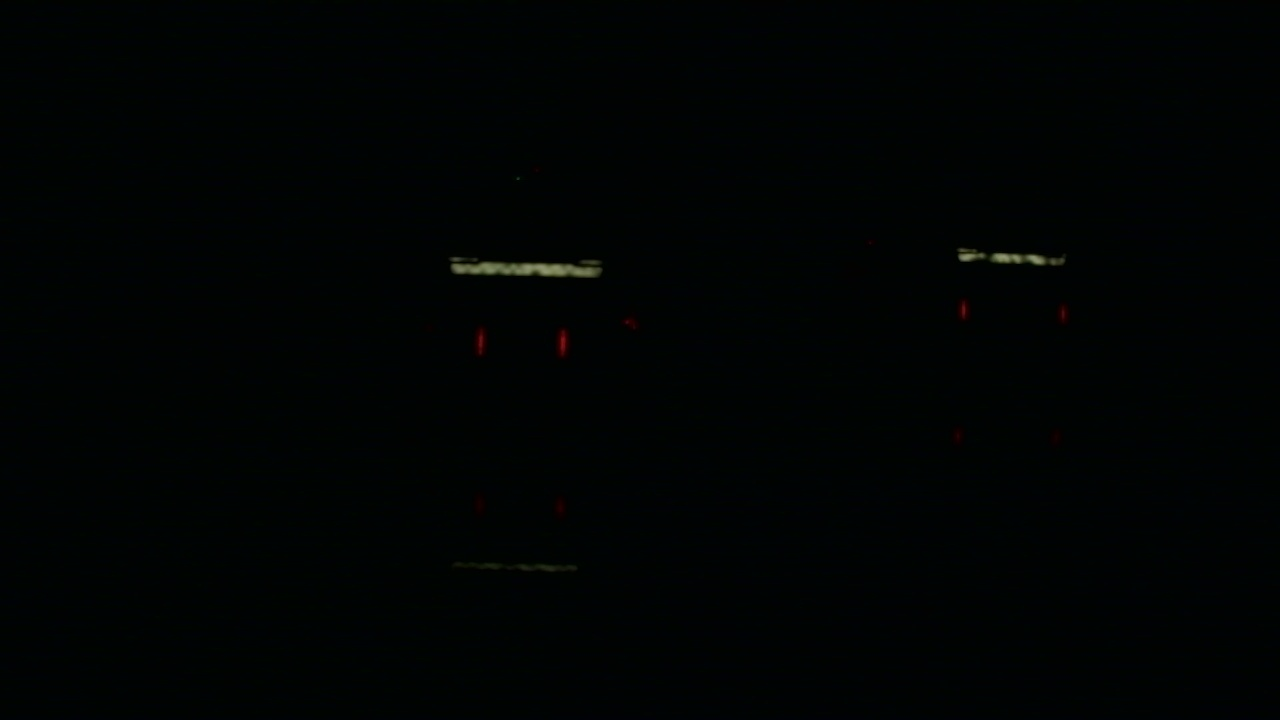lamp: (473, 329, 486, 357), (557, 328, 568, 356), (958, 301, 968, 322), (1060, 301, 1067, 322)
pair1: (475, 329, 567, 356)
pair2: (958, 301, 1068, 322)
